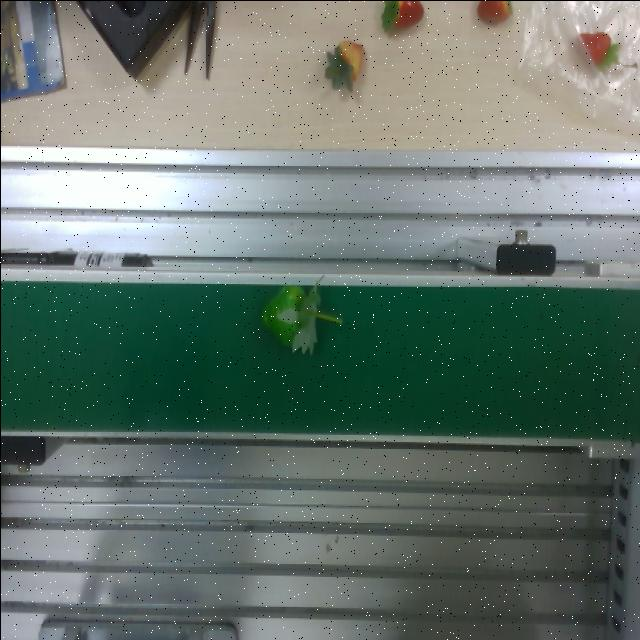Small Unripe Strawberry: (250, 284, 350, 356)
conveyor: (0, 277, 640, 445)
